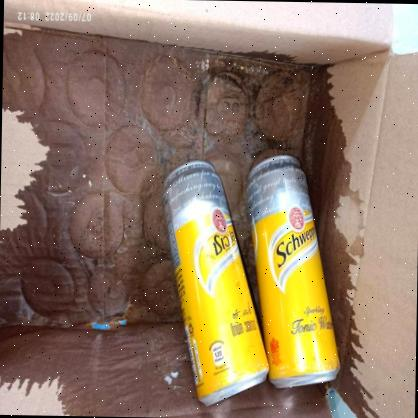can: (157, 159, 270, 406), (244, 153, 343, 389)
